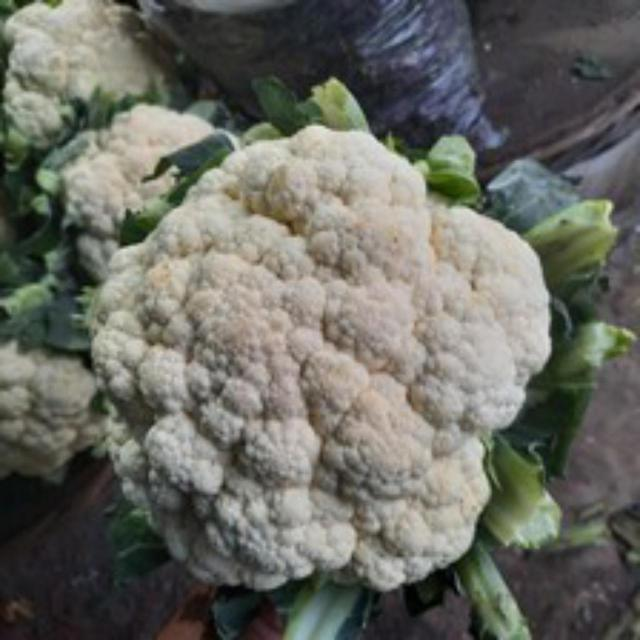cauliflower: (84, 115, 564, 596)
